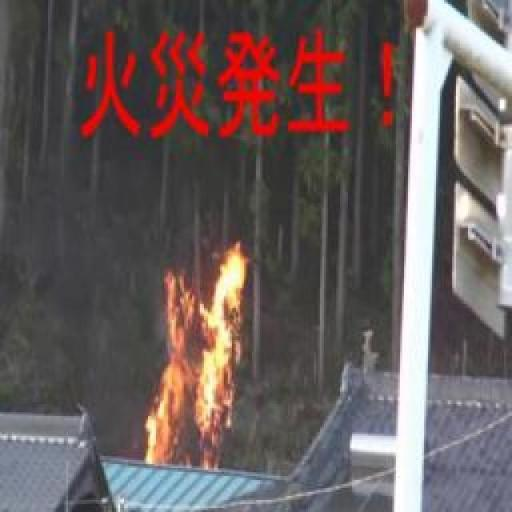smoke: (144, 241, 254, 475)
